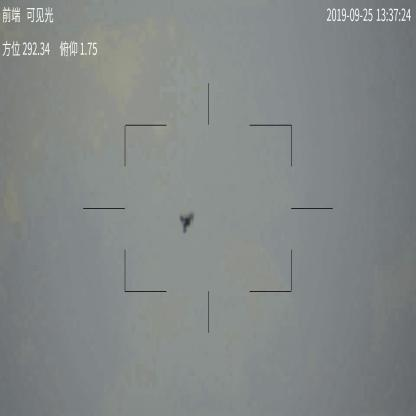uav: (179, 211, 195, 236)
